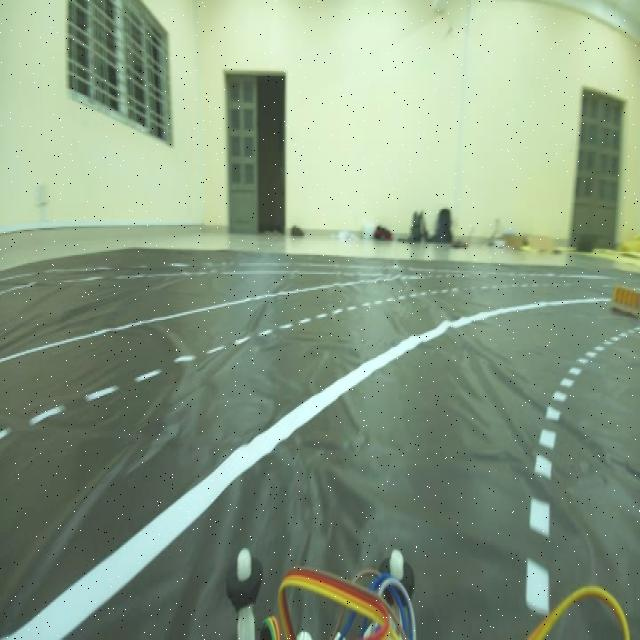roadblock: (608, 276, 640, 326)
